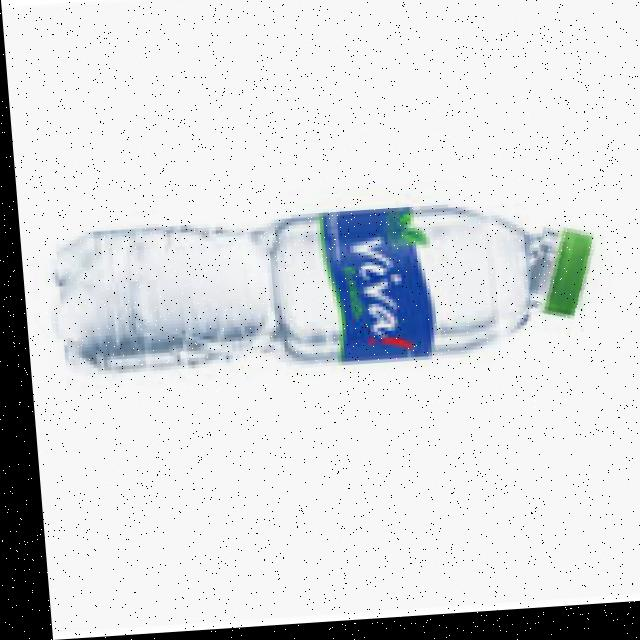litter: (518, 221, 601, 356)
